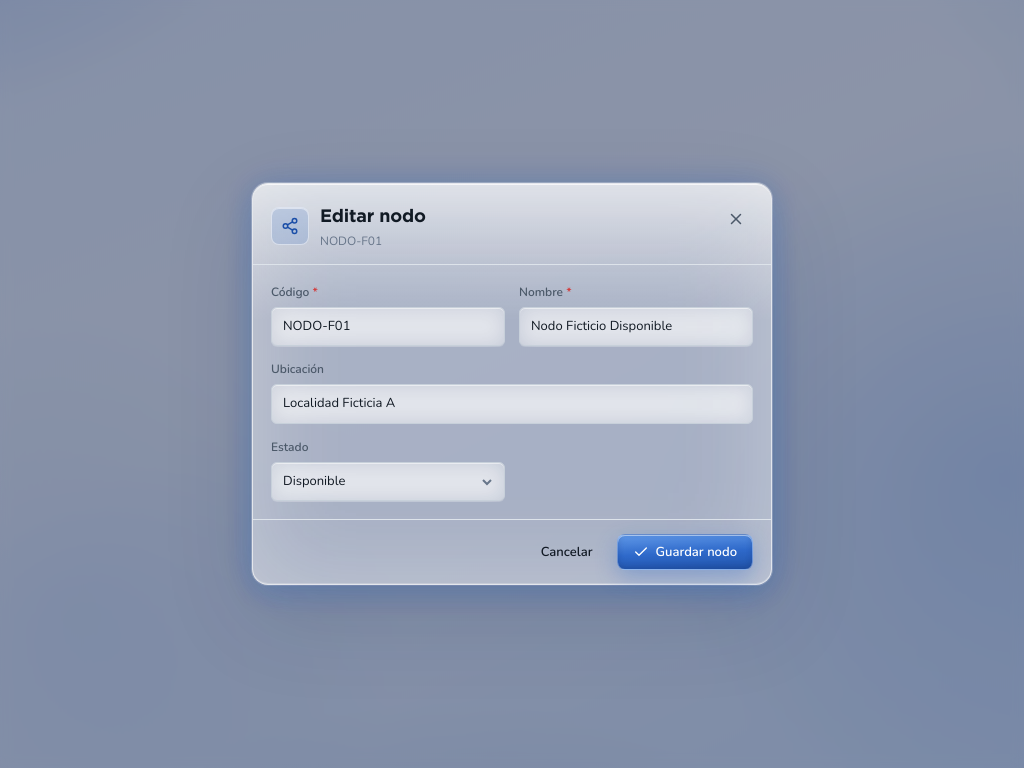
Test: NodeFormModal — reparto de los conflictos 409 › un 409 de regla de mantenimiento se pinta como error general, NO bajo Codigo
Click the button "Guardar nodo" at (685, 552), box [616,534,753,570]
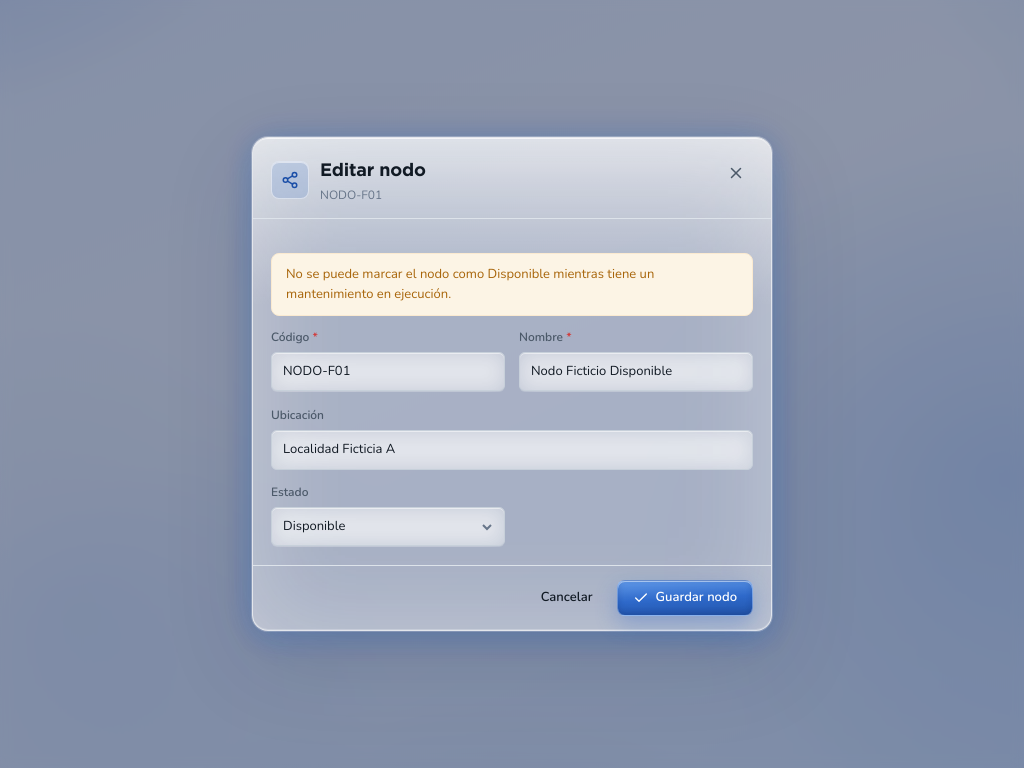
Result: the message shows "No se puede marcar el nodo como Disponible mientras tiene un mantenimiento en ejecución." at [286,265,654,303]
